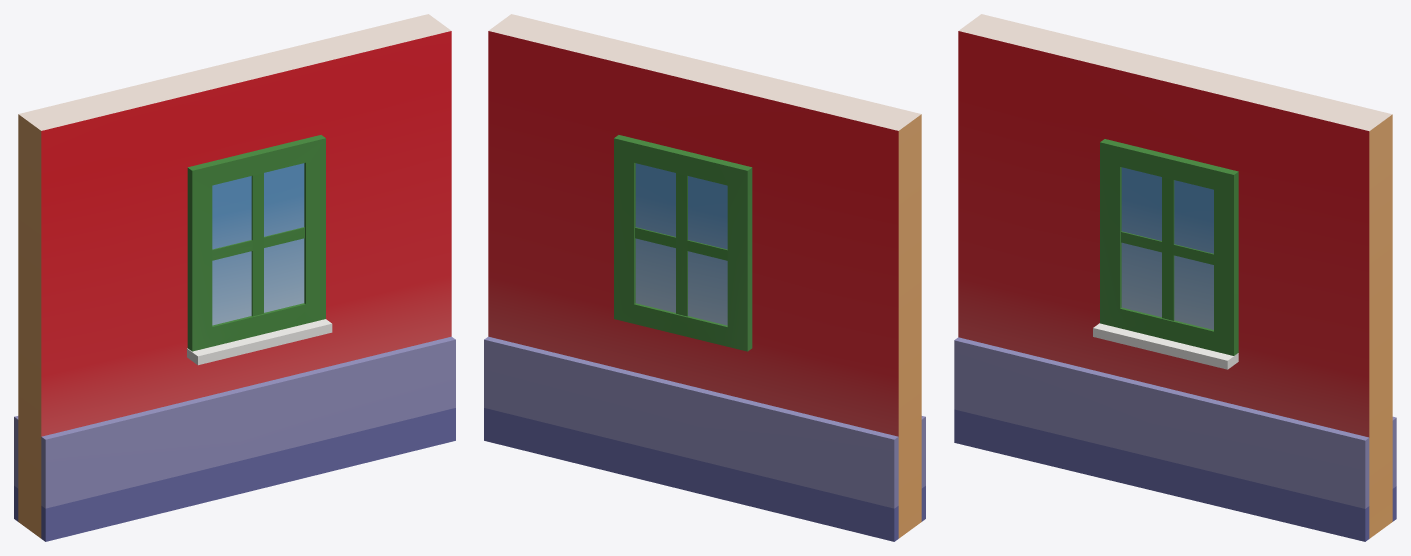
File: M1_Wall_03_3.fbx
The picture shows the model from 3 angles, left to right: view 1: azimuth 30°, elevation 25°; view 2: azimuth 150°, elevation 25°; view 3: azimuth 330°, elevation 25°; orthographic projection.
Parts seen in each view (by area): view 1: M1_Wall_03_3; view 2: M1_Wall_03_3; view 3: M1_Wall_03_3.
Boxes of the visible parts, x1,y1,x2,y2 form: M1_Wall_03_3: (14,14,455,541); M1_Wall_03_3: (484,14,925,541); M1_Wall_03_3: (954,14,1396,541).
Bounding box in the file's own units: 400 × 380 × 65.72.
